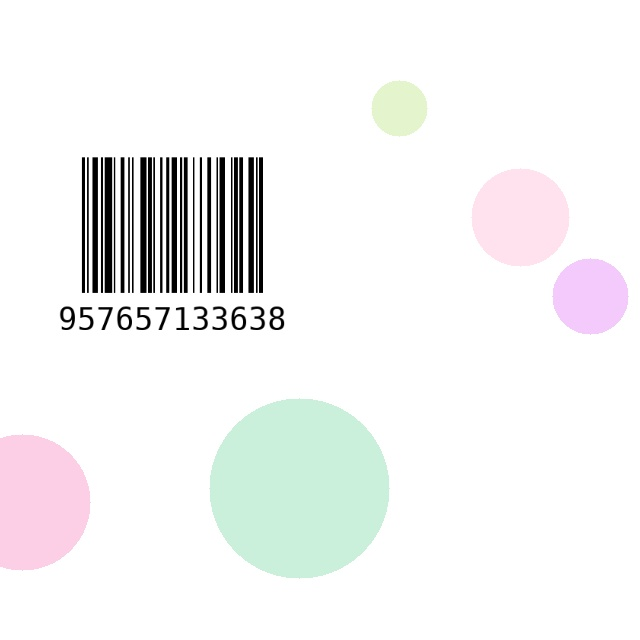barcode: (59, 149, 286, 362)
